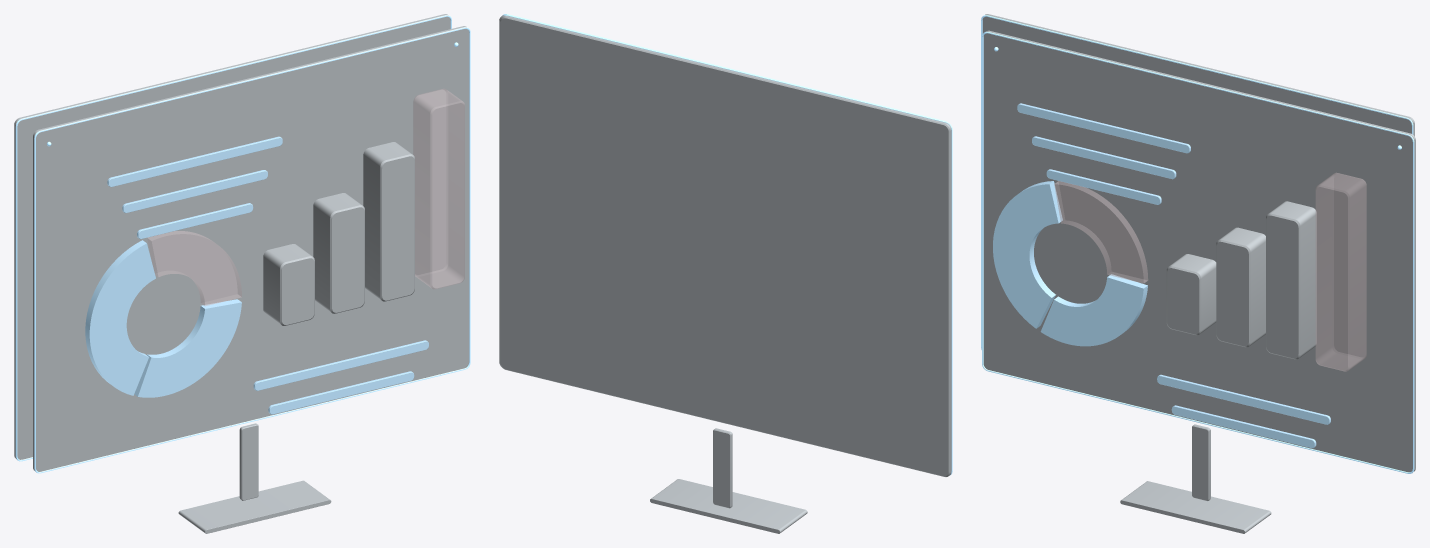
The model's file is 01-business-intelligence.glb.
3 renders of one model, left to right at view 1: azimuth 30°, elevation 25°; view 2: azimuth 150°, elevation 25°; view 3: azimuth 330°, elevation 25°, orthographic. The views are drawn at different scales.
Visible parts, largest first — view 1: BC thin clear technical glass, BC etched pale glass, BC subtle ruby technical glass, BC cool glass edge; view 2: BC thin clear technical glass, BC cool glass edge; view 3: BC thin clear technical glass, BC etched pale glass, BC subtle ruby technical glass, BC cool glass edge.
Part boxes in pixels (x1,y1,x2,y2): BC thin clear technical glass: (14,14,469,533); BC etched pale glass: (85,136,428,414); BC subtle ruby technical glass: (147,88,464,306); BC cool glass edge: (15,15,470,473); BC thin clear technical glass: (499,15,951,533); BC cool glass edge: (502,14,952,475); BC thin clear technical glass: (982,14,1415,533); BC etched pale glass: (993,103,1330,448); BC subtle ruby technical glass: (1054,172,1366,371); BC cool glass edge: (981,15,1414,473).
Bounding box in the file's own units: 2.05 × 1.92 × 0.3316.
